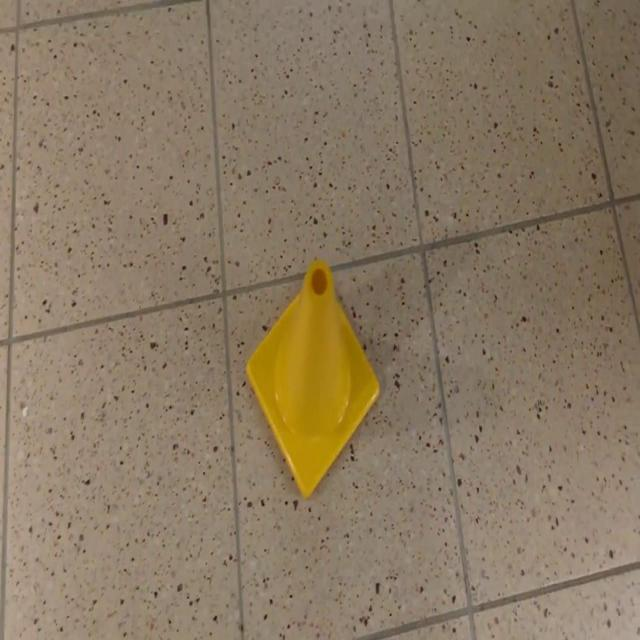frc_cone: (243, 260, 382, 498)
